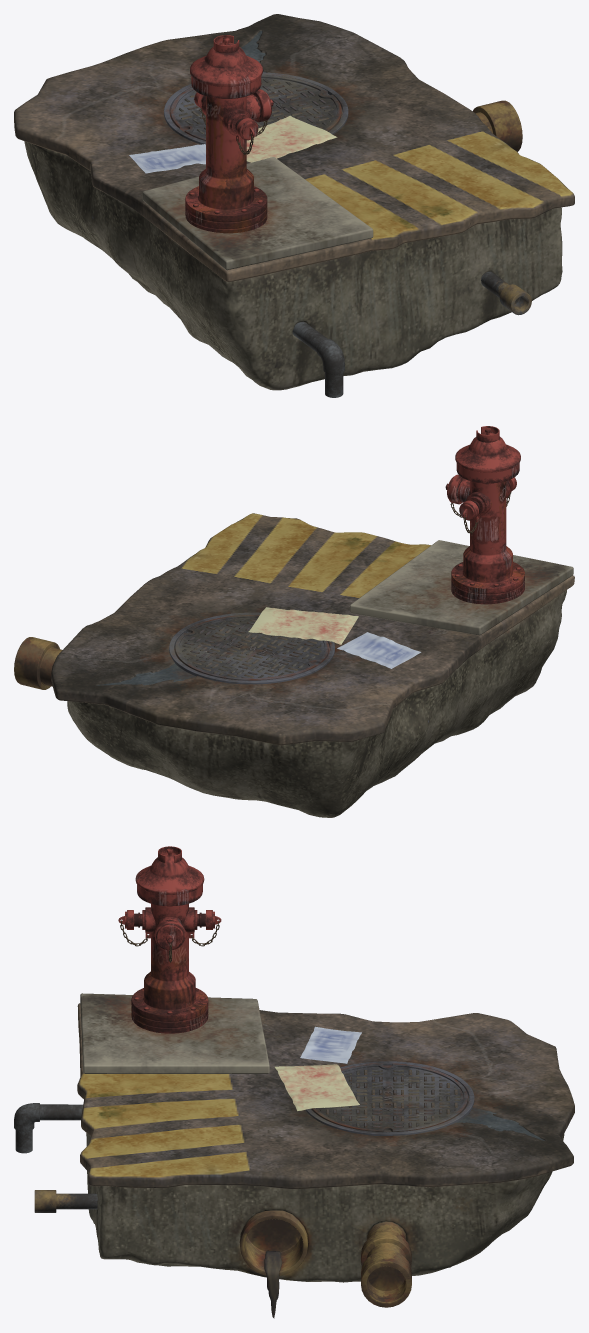
File: city_platform.obj
The picture shows the model from 3 angles, top to bottom: view 1: azimuth 30°, elevation 25°; view 2: azimuth 150°, elevation 25°; view 3: azimuth 270°, elevation 25°; orthographic projection. The views are drawn at different scales.
Visible parts, largest first — view 1: city_1.2_Mesh_0, city_2.3_Mesh_1; view 2: city_1.2_Mesh_0, city_2.3_Mesh_1; view 3: city_1.2_Mesh_0, city_2.3_Mesh_1.
Part boxes in pixels (x1,y1,x2,y2): city_1.2_Mesh_0: (14,14,574,281); city_2.3_Mesh_1: (24,100,562,397); city_1.2_Mesh_0: (51,426,574,745); city_2.3_Mesh_1: (14,540,573,817); city_1.2_Mesh_0: (77,846,574,1188); city_2.3_Mesh_1: (14,993,564,1318).
Bounding box in the file's own units: 0.0844 × 0.0638 × 0.098.
